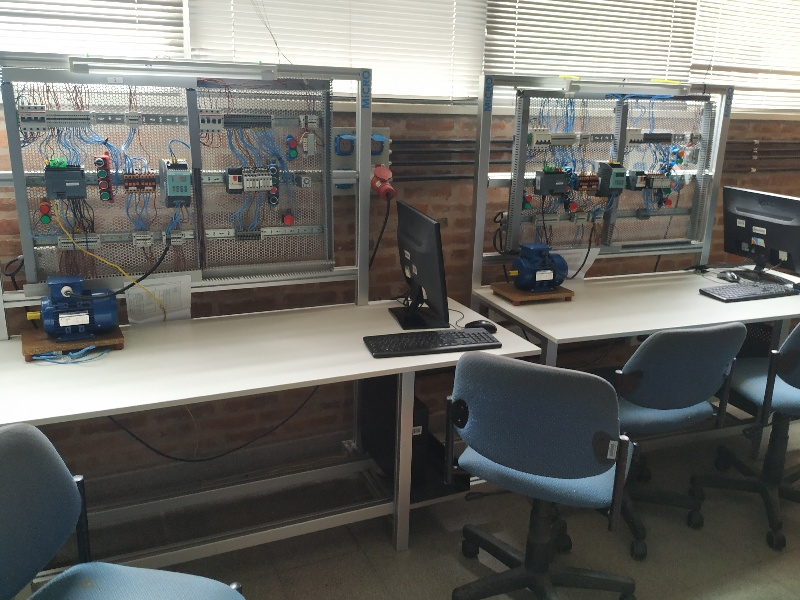Tablero 1: (6, 76, 337, 273)
Tablero 2: (524, 90, 711, 245)
